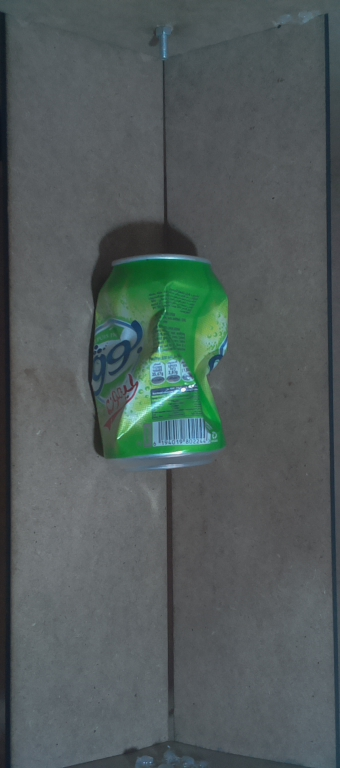Canette: (83, 241, 240, 477)
